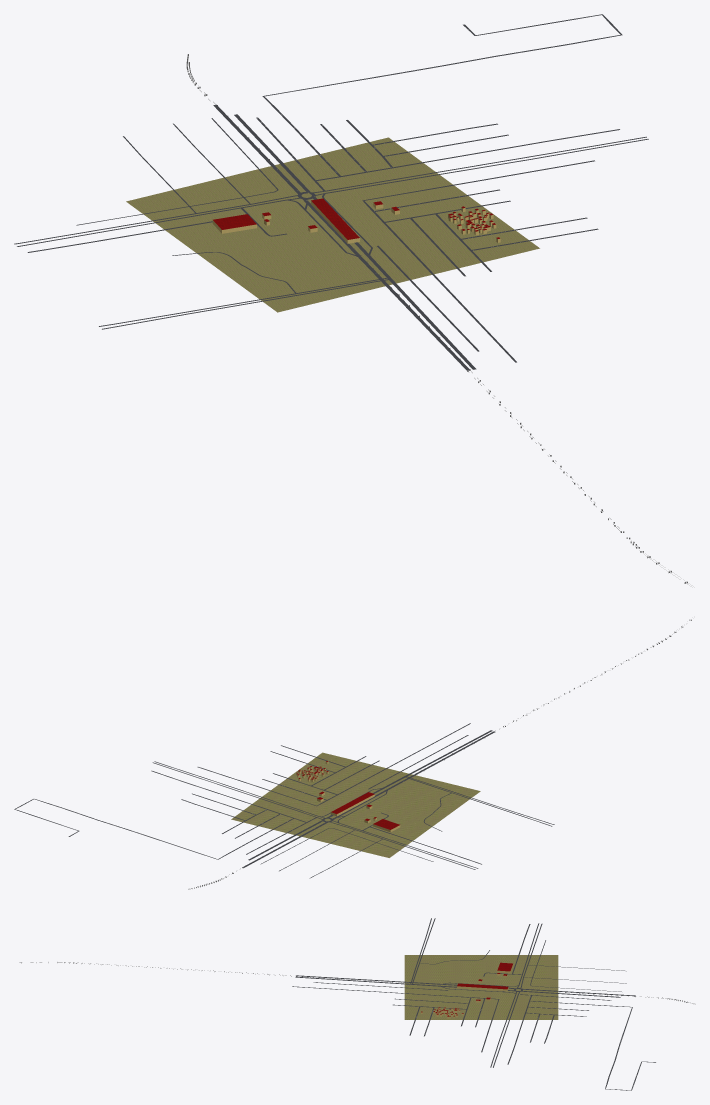
3 views of the same model, one above another, from view 1: azimuth 30°, elevation 25°; view 2: azimuth 150°, elevation 25°; view 3: azimuth 270°, elevation 25° (orthographic). The views are drawn at different scales.
Visible parts, largest first — view 1: SurfaceArea w-1 (×4), Road w501601029; view 2: SurfaceArea w-1 (×4), Road w501601029; view 3: SurfaceArea w-1 (×4), Road w501601029.
Part boxes in pixels (x1=…): SurfaceArea w-1 (×4): x1=126, y1=137, x2=539, y2=312; Road w501601029: x1=262, y1=14, x2=622, y2=176; SurfaceArea w-1 (×4): x1=231, y1=752, x2=480, y2=857; Road w501601029: x1=14, y1=799, x2=293, y2=859; SurfaceArea w-1 (×4): x1=404, y1=955, x2=558, y2=1019; Road w501601029: x1=530, y1=1001, x2=655, y2=1090.
Size of the model in its own units: 1436 by 10.5 by 2398.
Materials: 6 (5 with a texture image).
